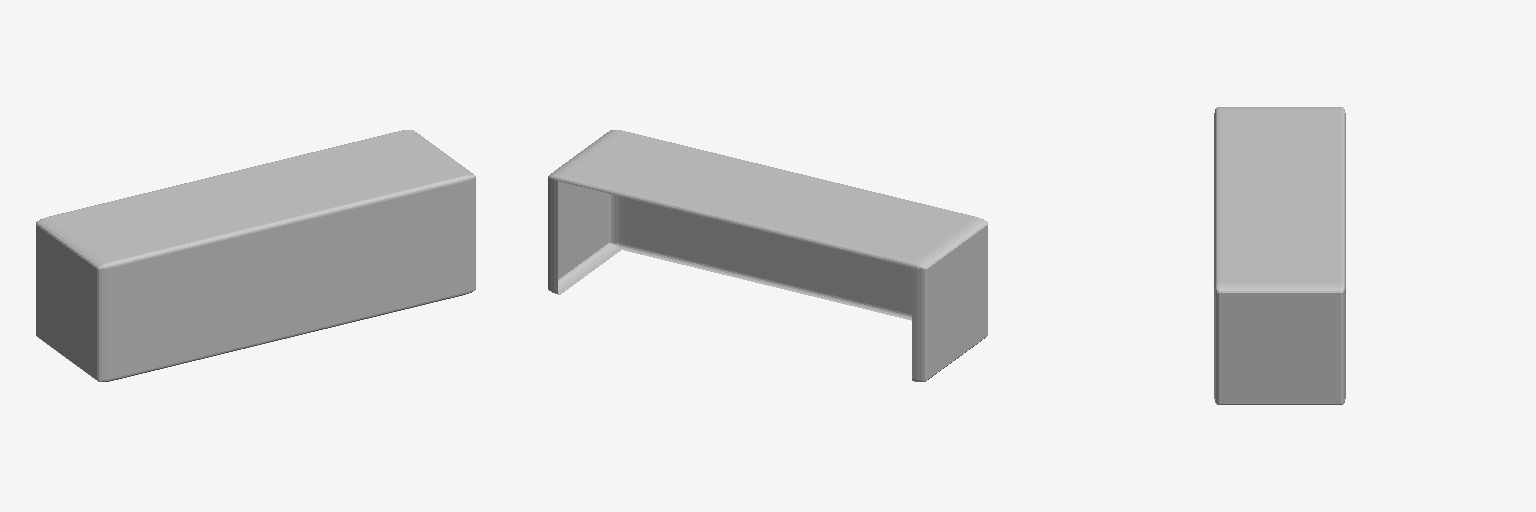
Rendered from macTablle.obj.
3 views of the same model, side by side, from view 1: azimuth 30°, elevation 25°; view 2: azimuth 150°, elevation 25°; view 3: azimuth 270°, elevation 25° (orthographic).
Visible parts, largest first — view 1: default; view 2: default; view 3: default.
Part boxes in pixels (bbox=[...]): default: bbox=[36, 130, 475, 381]; default: bbox=[548, 130, 987, 381]; default: bbox=[1214, 107, 1345, 404].
Size of the model in its own units: 27.02 by 8.1 by 8.1.